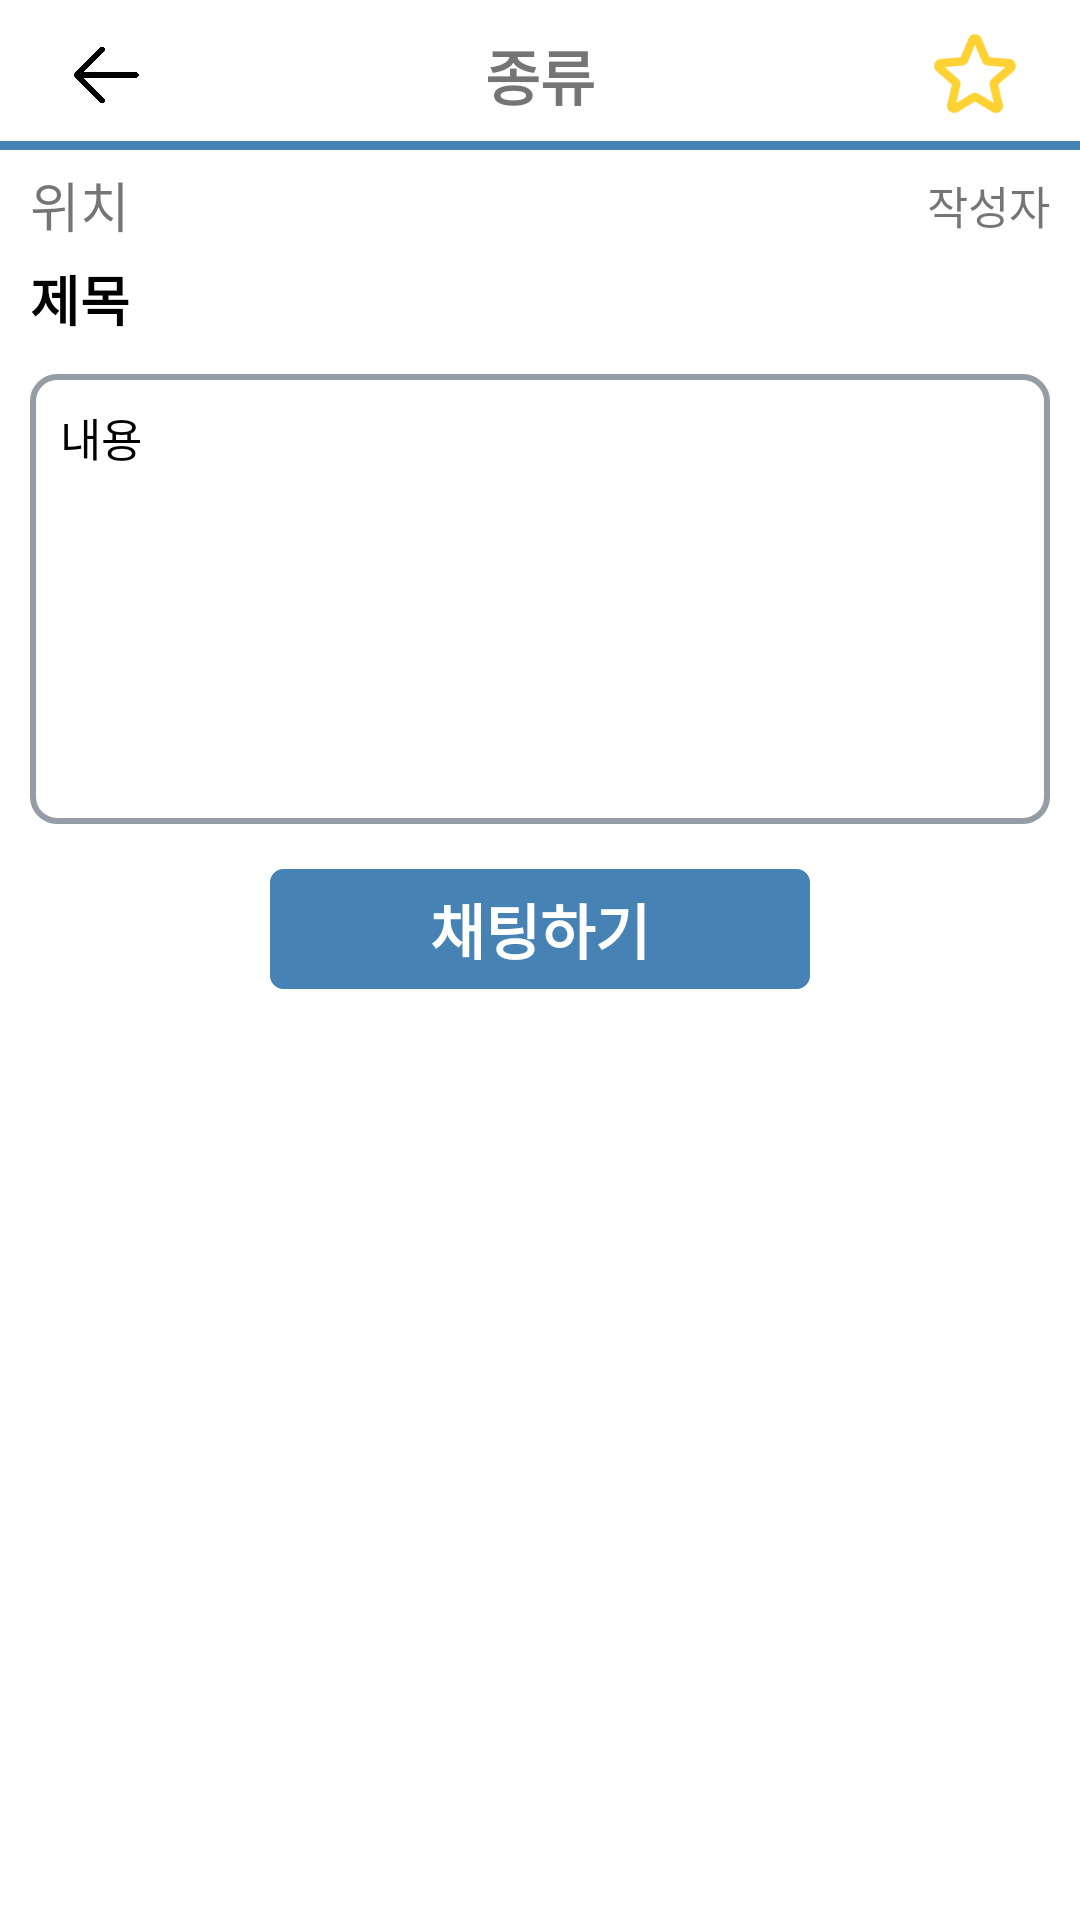

Icons on this 1080 x 1920 Android screen, each with its box as (x1, y1, x2, y2):
back: (74, 47, 139, 103)
emptystar: (934, 34, 1016, 113)
